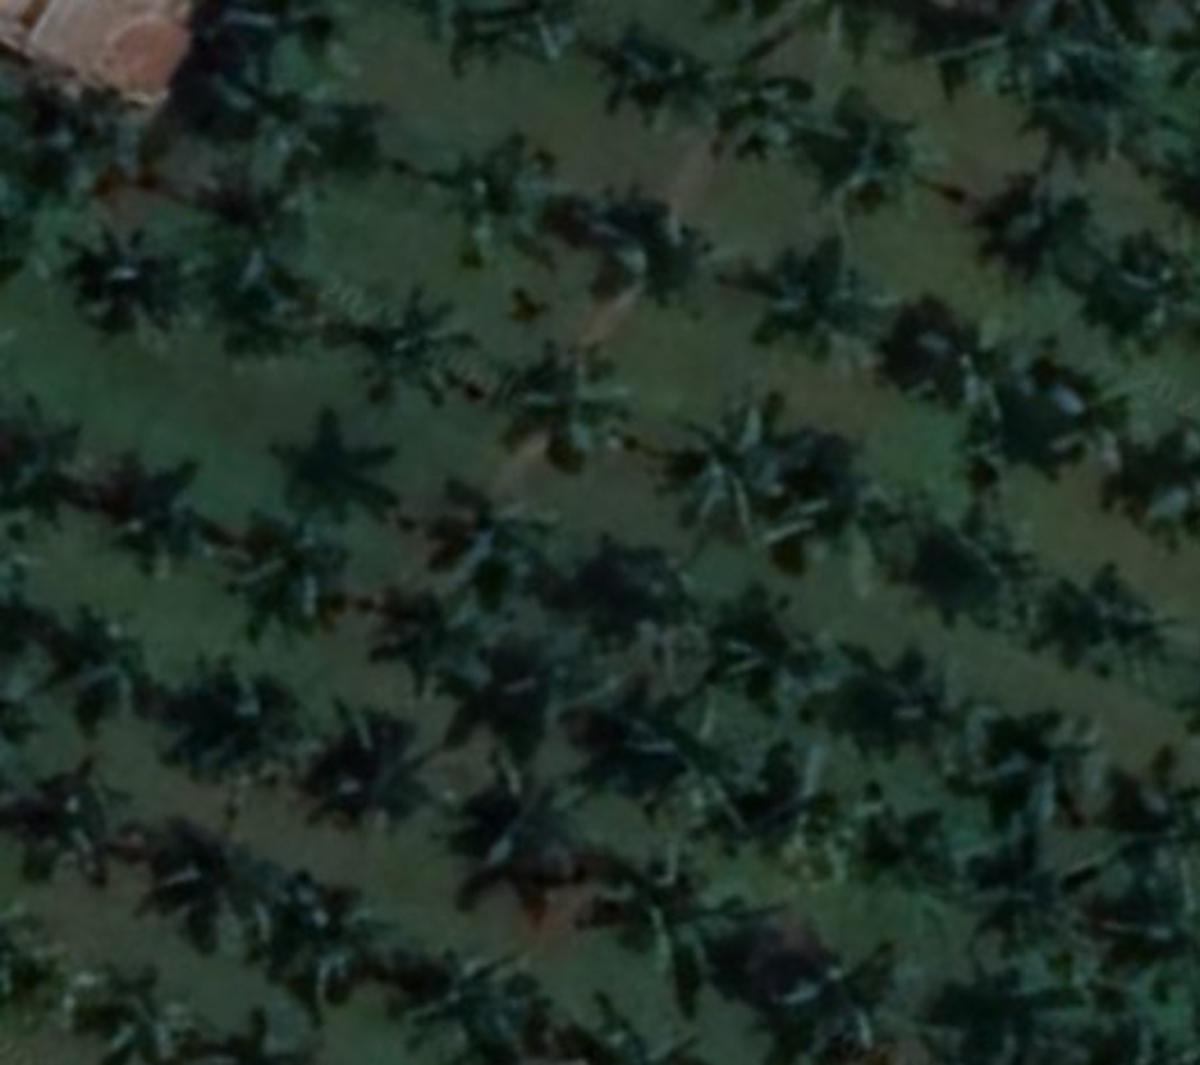coconut: (751, 235, 911, 375), (959, 155, 1099, 306), (393, 927, 547, 1062), (329, 712, 471, 854), (622, 849, 755, 1000), (961, 819, 1106, 955), (668, 393, 796, 545), (758, 927, 909, 1055), (712, 586, 851, 721), (586, 194, 719, 336), (622, 700, 758, 838), (469, 758, 593, 904), (441, 130, 572, 265), (776, 742, 886, 893), (158, 829, 270, 977), (267, 879, 389, 1016), (1069, 558, 1195, 687), (2, 405, 121, 540), (932, 494, 1044, 634), (242, 517, 366, 641), (80, 233, 201, 361), (361, 284, 476, 416), (597, 19, 719, 144), (874, 642, 984, 778), (1096, 222, 1200, 364), (517, 338, 638, 460), (819, 100, 938, 215), (999, 705, 1115, 822), (1041, 361, 1151, 483), (437, 490, 554, 600), (916, 311, 1028, 426), (780, 478, 886, 579), (723, 64, 819, 171)
